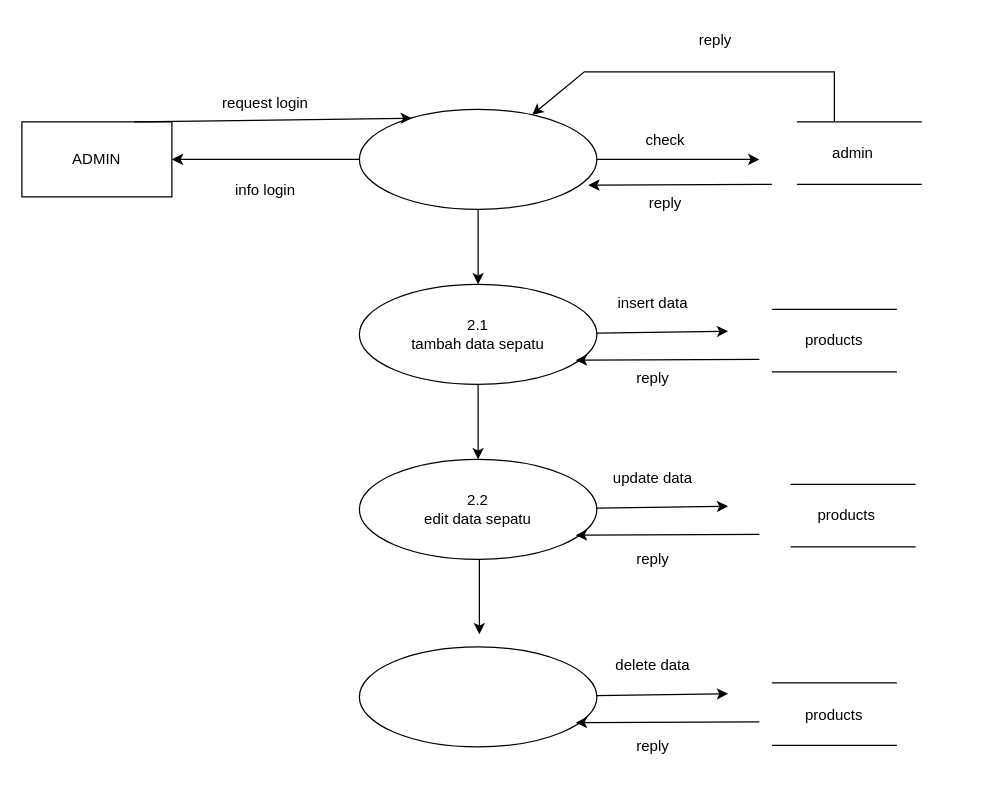
The diagram is 981 pixels wide and 786 high, and some of its shapes have lost their labels. The box of each missing label's shape, as (x1, y1, x2, y2) in pixels:
2.0 Login: (358, 108, 597, 209)
2.2 hapus data sepatu: (358, 646, 597, 747)
